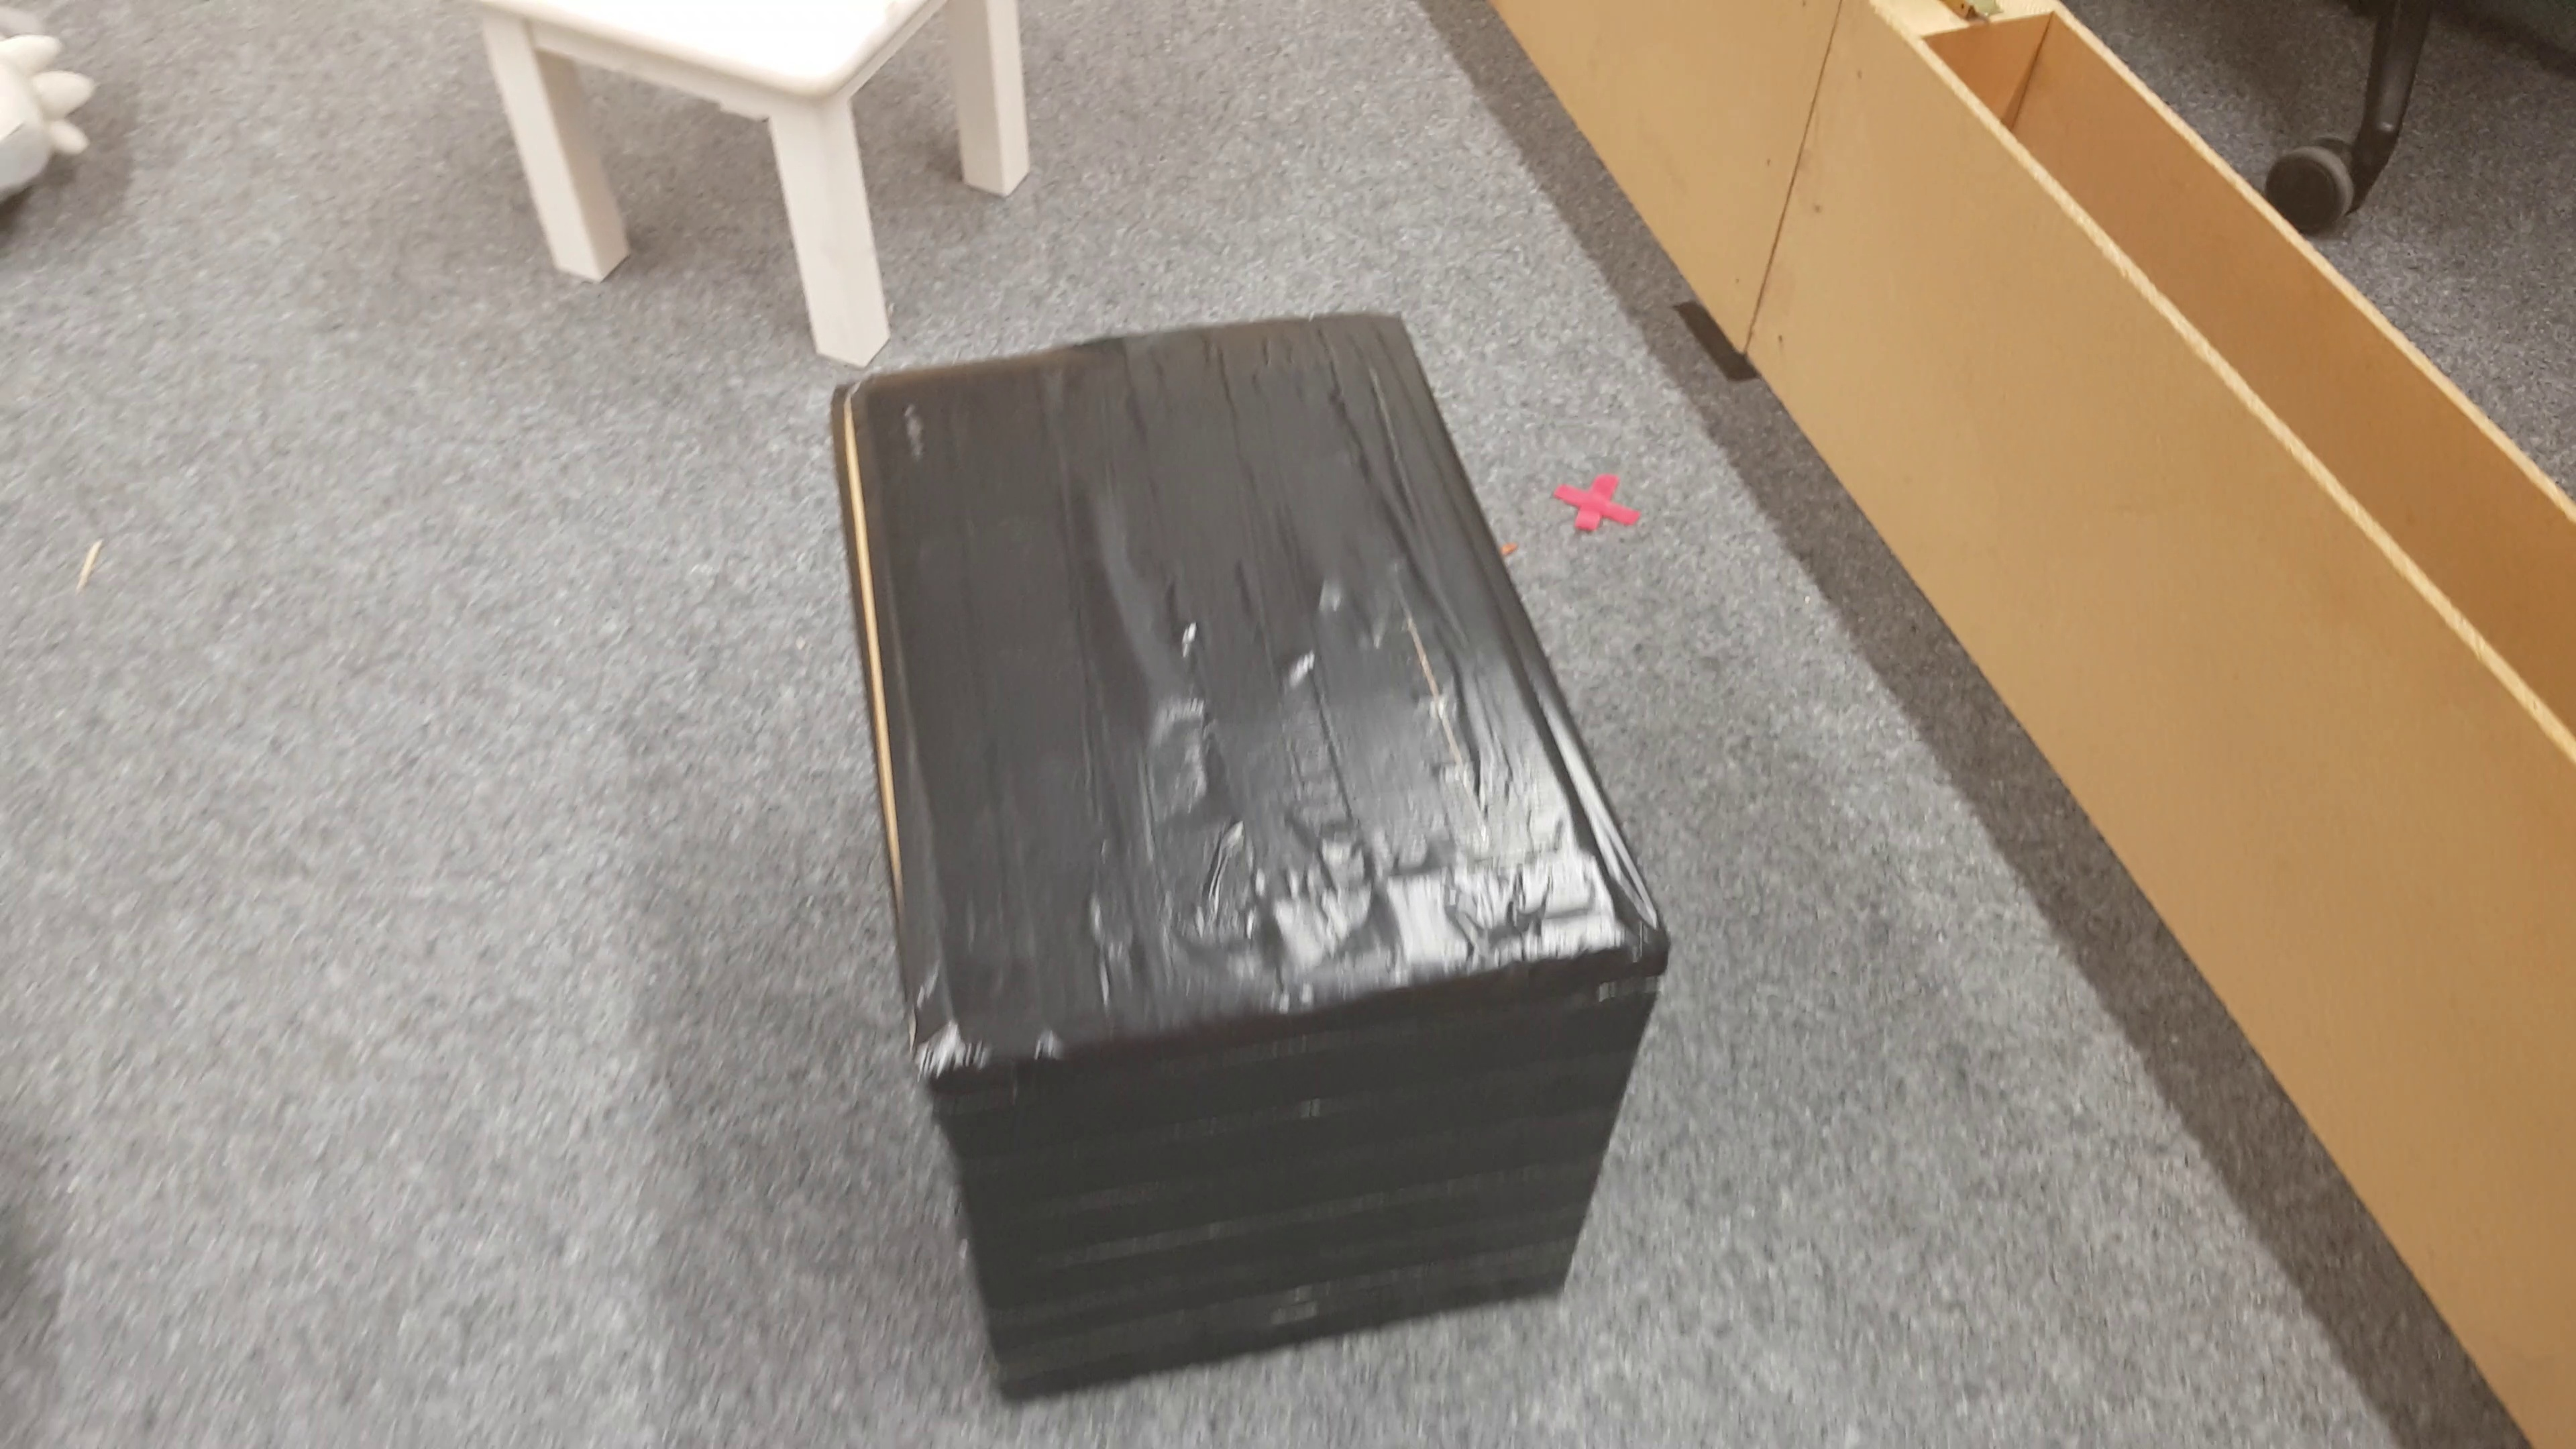push: (826, 311, 1681, 1385)
